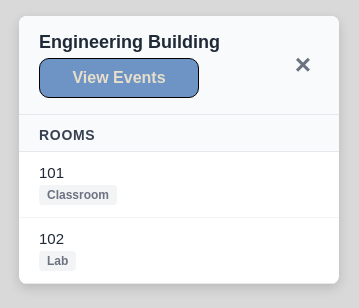
Test: RoomList Component › View Toggle › should toggle to events view and show "View Rooms" button
Click the button "View Events": (119, 78) [39,58,199,98]
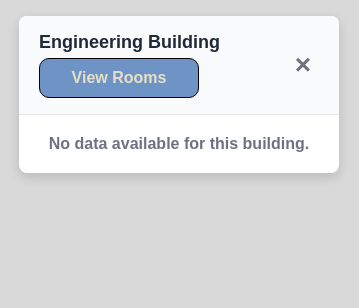
expect the button "View Rooms" is shown: met, box [39,58,199,98]
